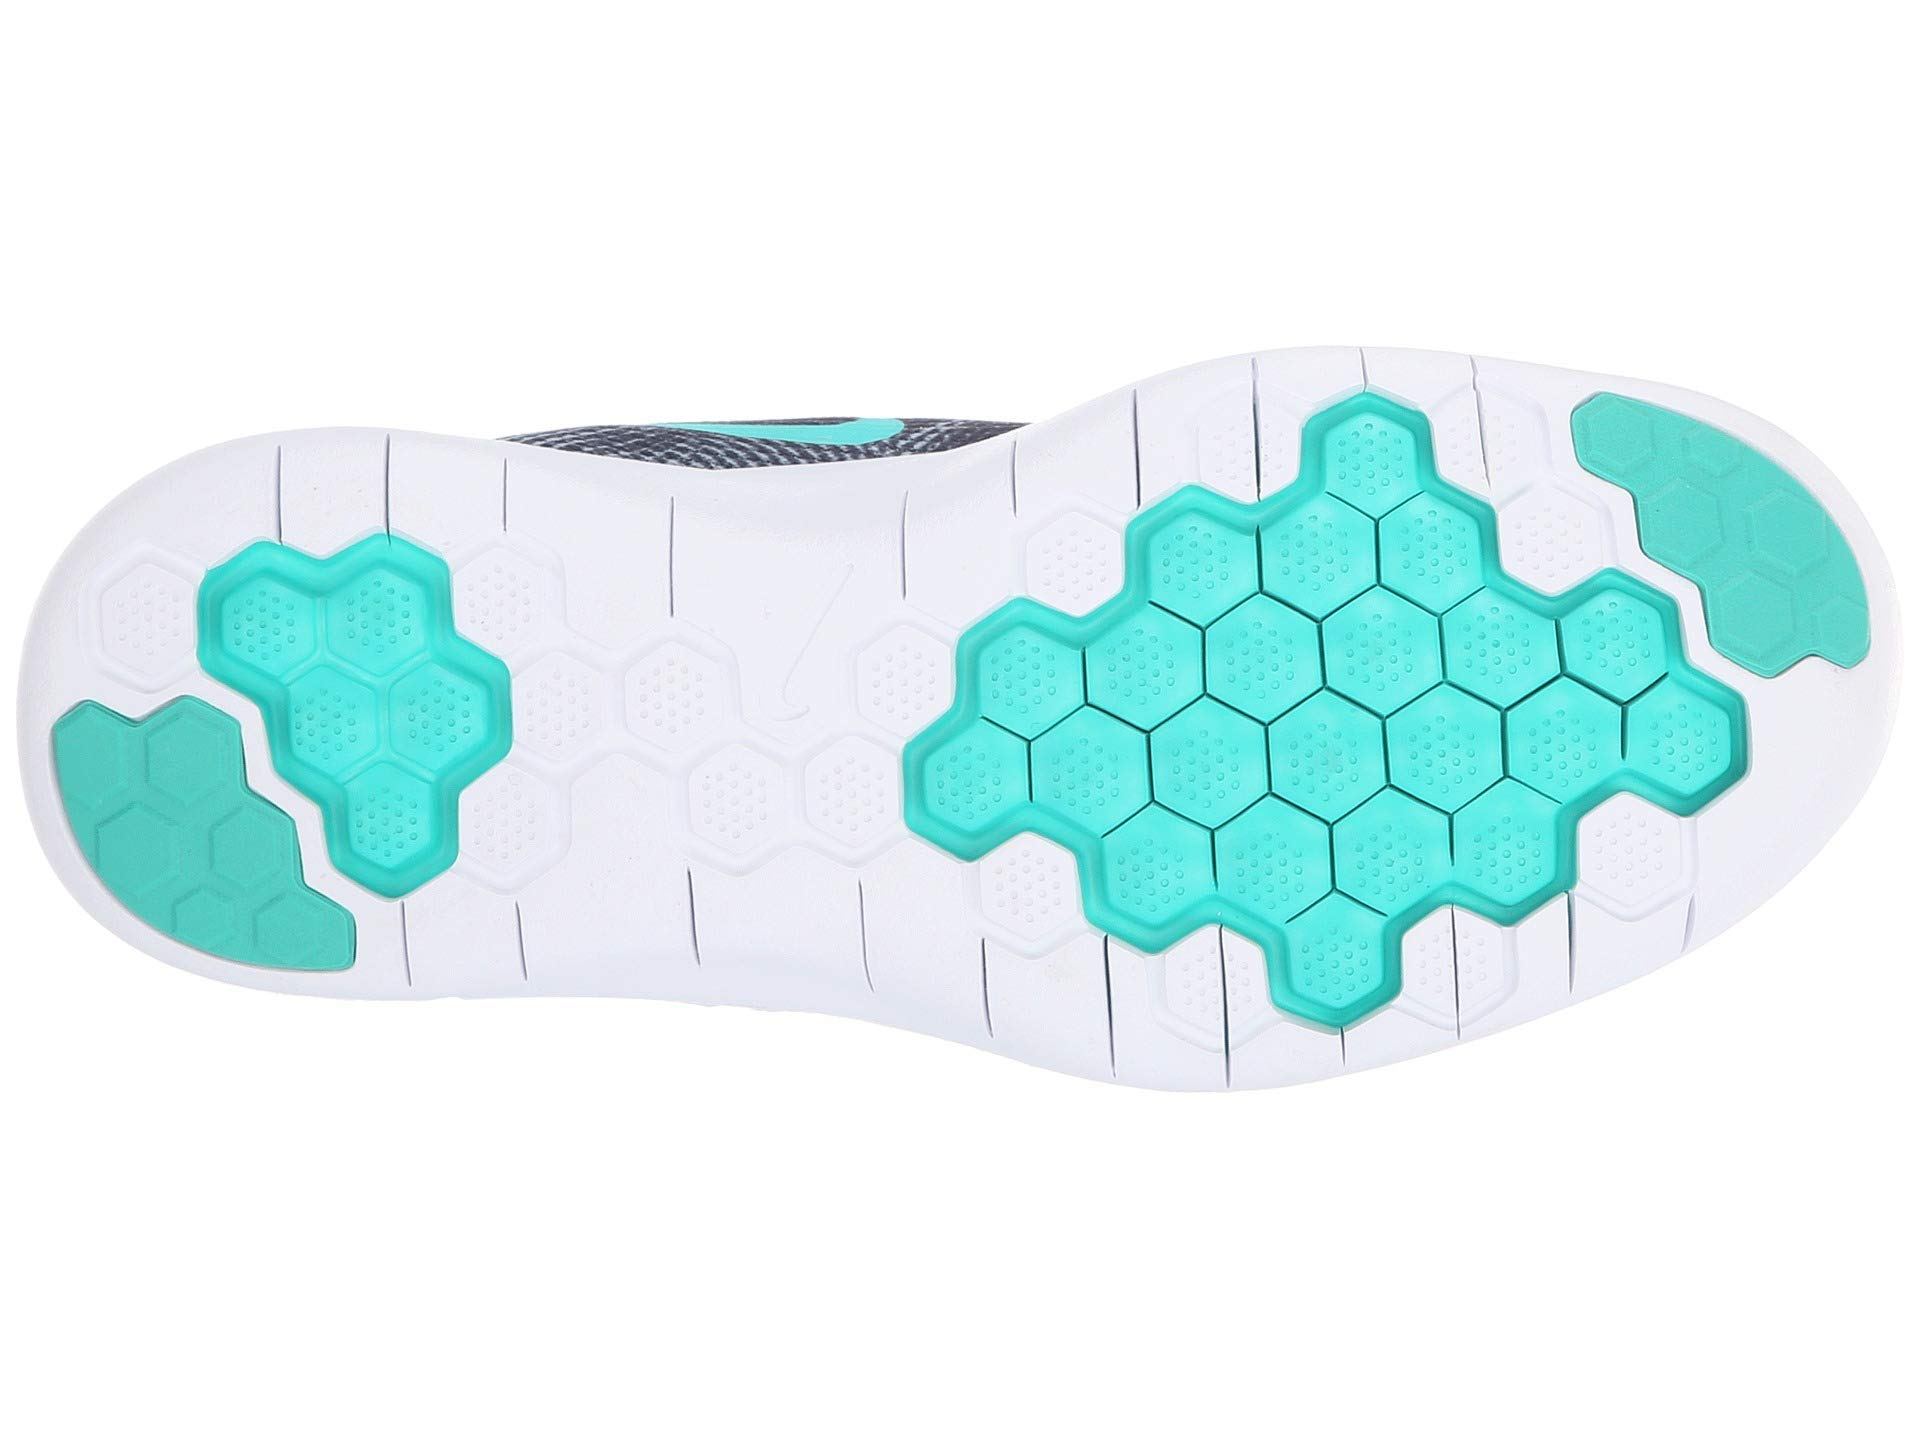circle: (1023, 436, 1612, 976), (210, 445, 505, 892)
line: (1023, 436, 1612, 976), (210, 445, 505, 892)
polygon: (1023, 436, 1612, 976), (210, 445, 505, 892)
